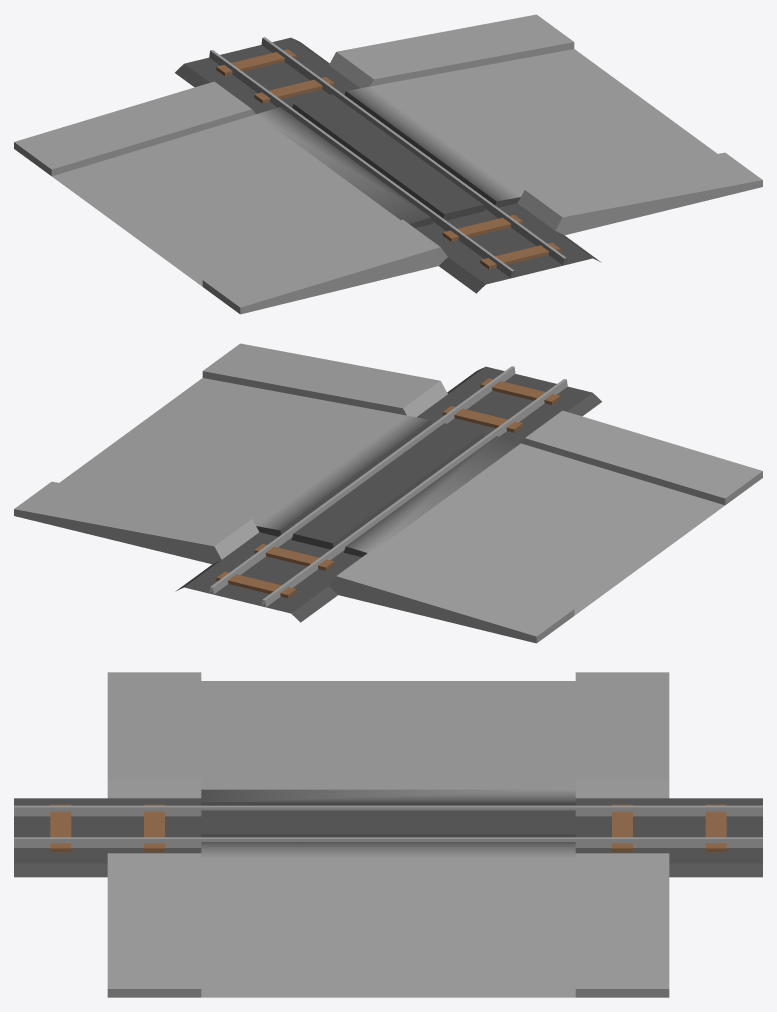
The model's file is 1_crossing_road.fbx.
3 views of the same model, one above another, from view 1: azimuth 30°, elevation 25°; view 2: azimuth 150°, elevation 25°; view 3: azimuth 270°, elevation 25° (orthographic). The views are drawn at different scales.
Visible parts, largest first — view 1: 1_crossing_road; view 2: 1_crossing_road; view 3: 1_crossing_road.
Part boxes in pixels (x1=…): 1_crossing_road: x1=14, y1=14, x2=762, y2=314; 1_crossing_road: x1=14, y1=343, x2=762, y2=643; 1_crossing_road: x1=14, y1=672, x2=762, y2=997.
Size of the model in its own units: 8 by 0.27 by 8.
